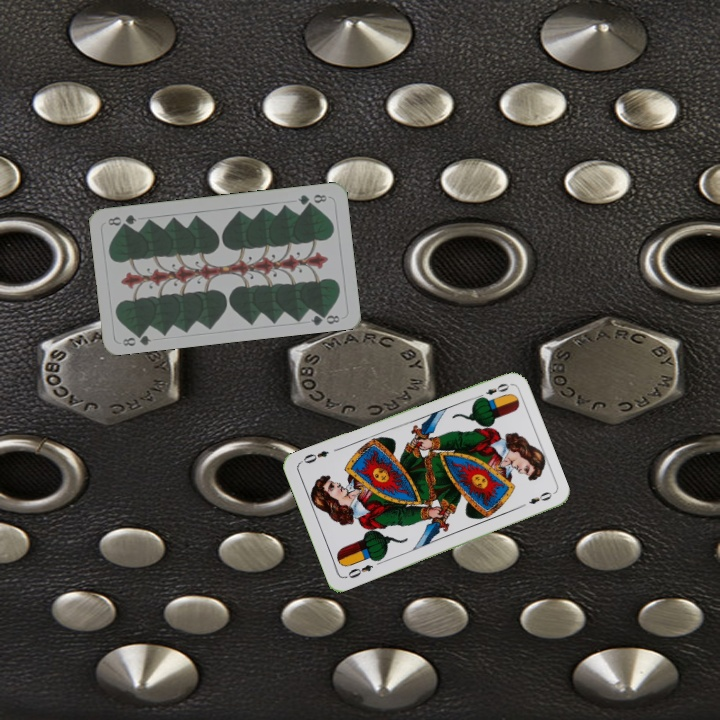EO: (473, 379, 512, 402), (341, 560, 376, 581)
G8: (118, 328, 154, 349), (294, 190, 329, 208)
